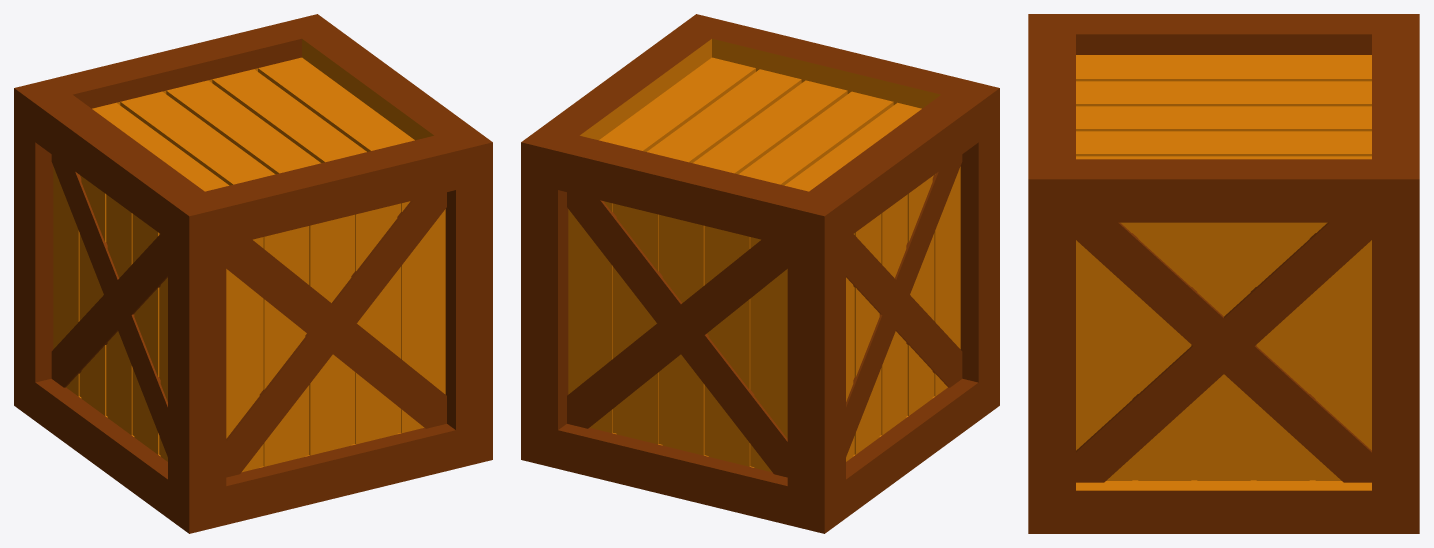
File: woodbox.glb
3 views of the same model, side by side, from view 1: azimuth 30°, elevation 25°; view 2: azimuth 150°, elevation 25°; view 3: azimuth 270°, elevation 25° (orthographic). The views are drawn at different scales.
Parts seen in each view (by area): view 1: woodbox; view 2: woodbox; view 3: woodbox.
Part boxes in pixels (box(x1,y1,x2,y2)): woodbox: box(14, 14, 492, 533); woodbox: box(521, 14, 999, 533); woodbox: box(1028, 14, 1419, 533).
Bounding box in the file's own units: 0.2093 × 0.2093 × 0.2093.
